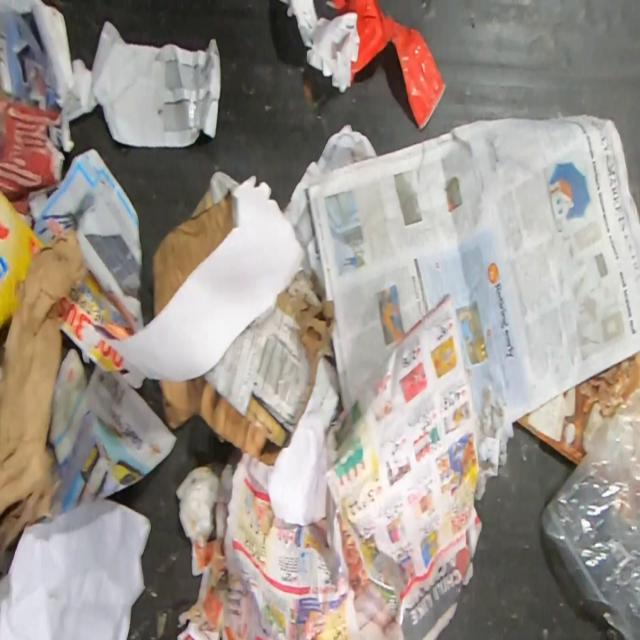cardboard: (82, 176, 306, 389), (155, 264, 338, 466), (516, 348, 640, 464), (150, 171, 241, 319), (0, 185, 47, 331)
rigid_plastic: (330, 0, 448, 131)
soft_plastic: (540, 382, 640, 640)
